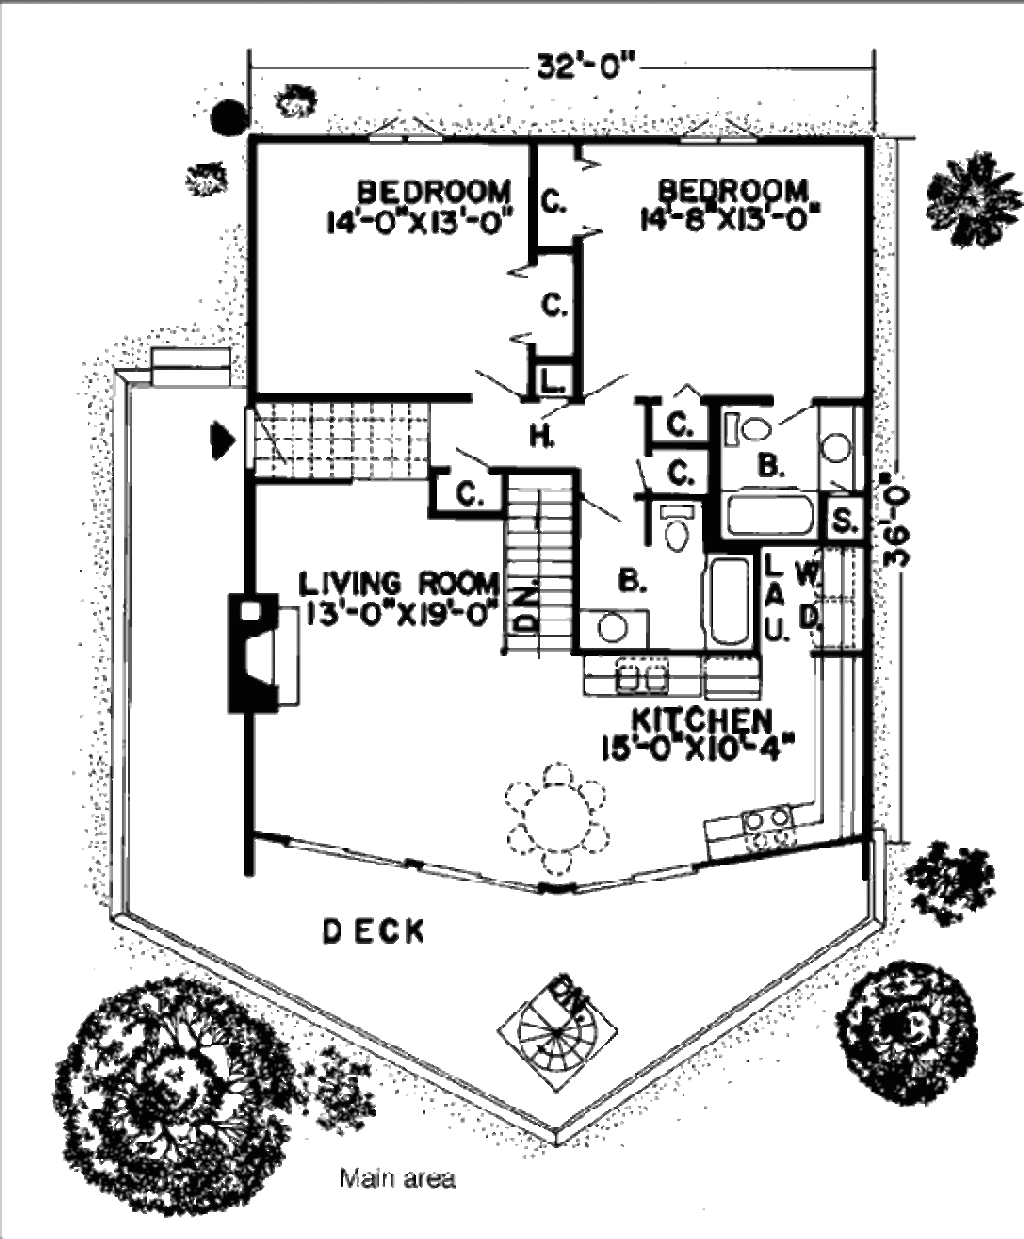large_sink: (714, 409, 791, 452), (649, 494, 701, 554)
round_table: (470, 736, 641, 869)
small_sink: (812, 394, 870, 506), (568, 588, 657, 650)
stairs: (499, 471, 599, 681)
tub: (705, 550, 764, 656), (720, 492, 822, 542)
twin_sink: (597, 640, 676, 708)
window: (268, 831, 416, 881), (432, 854, 553, 911), (601, 869, 723, 888)
